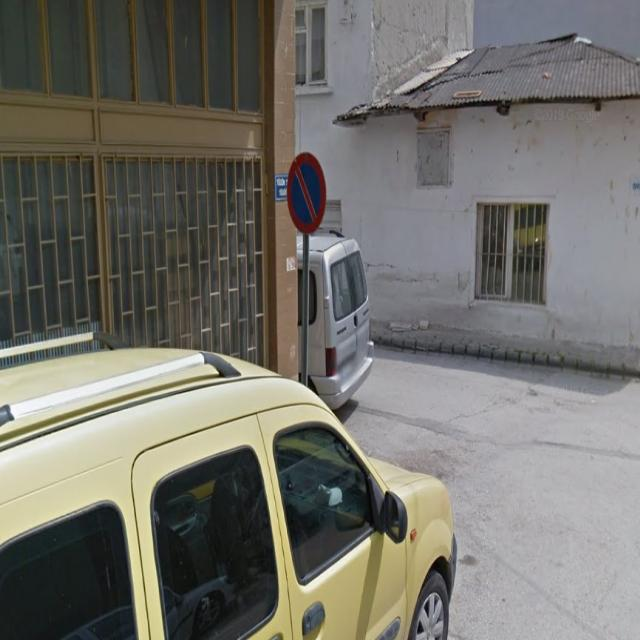parkyasak: (287, 152, 326, 232)
